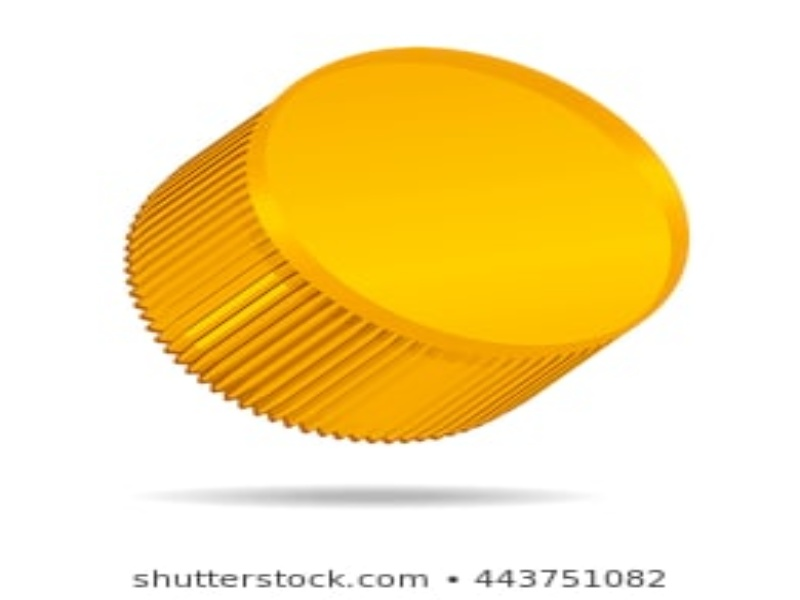bottle-cap: (116, 47, 693, 446)
